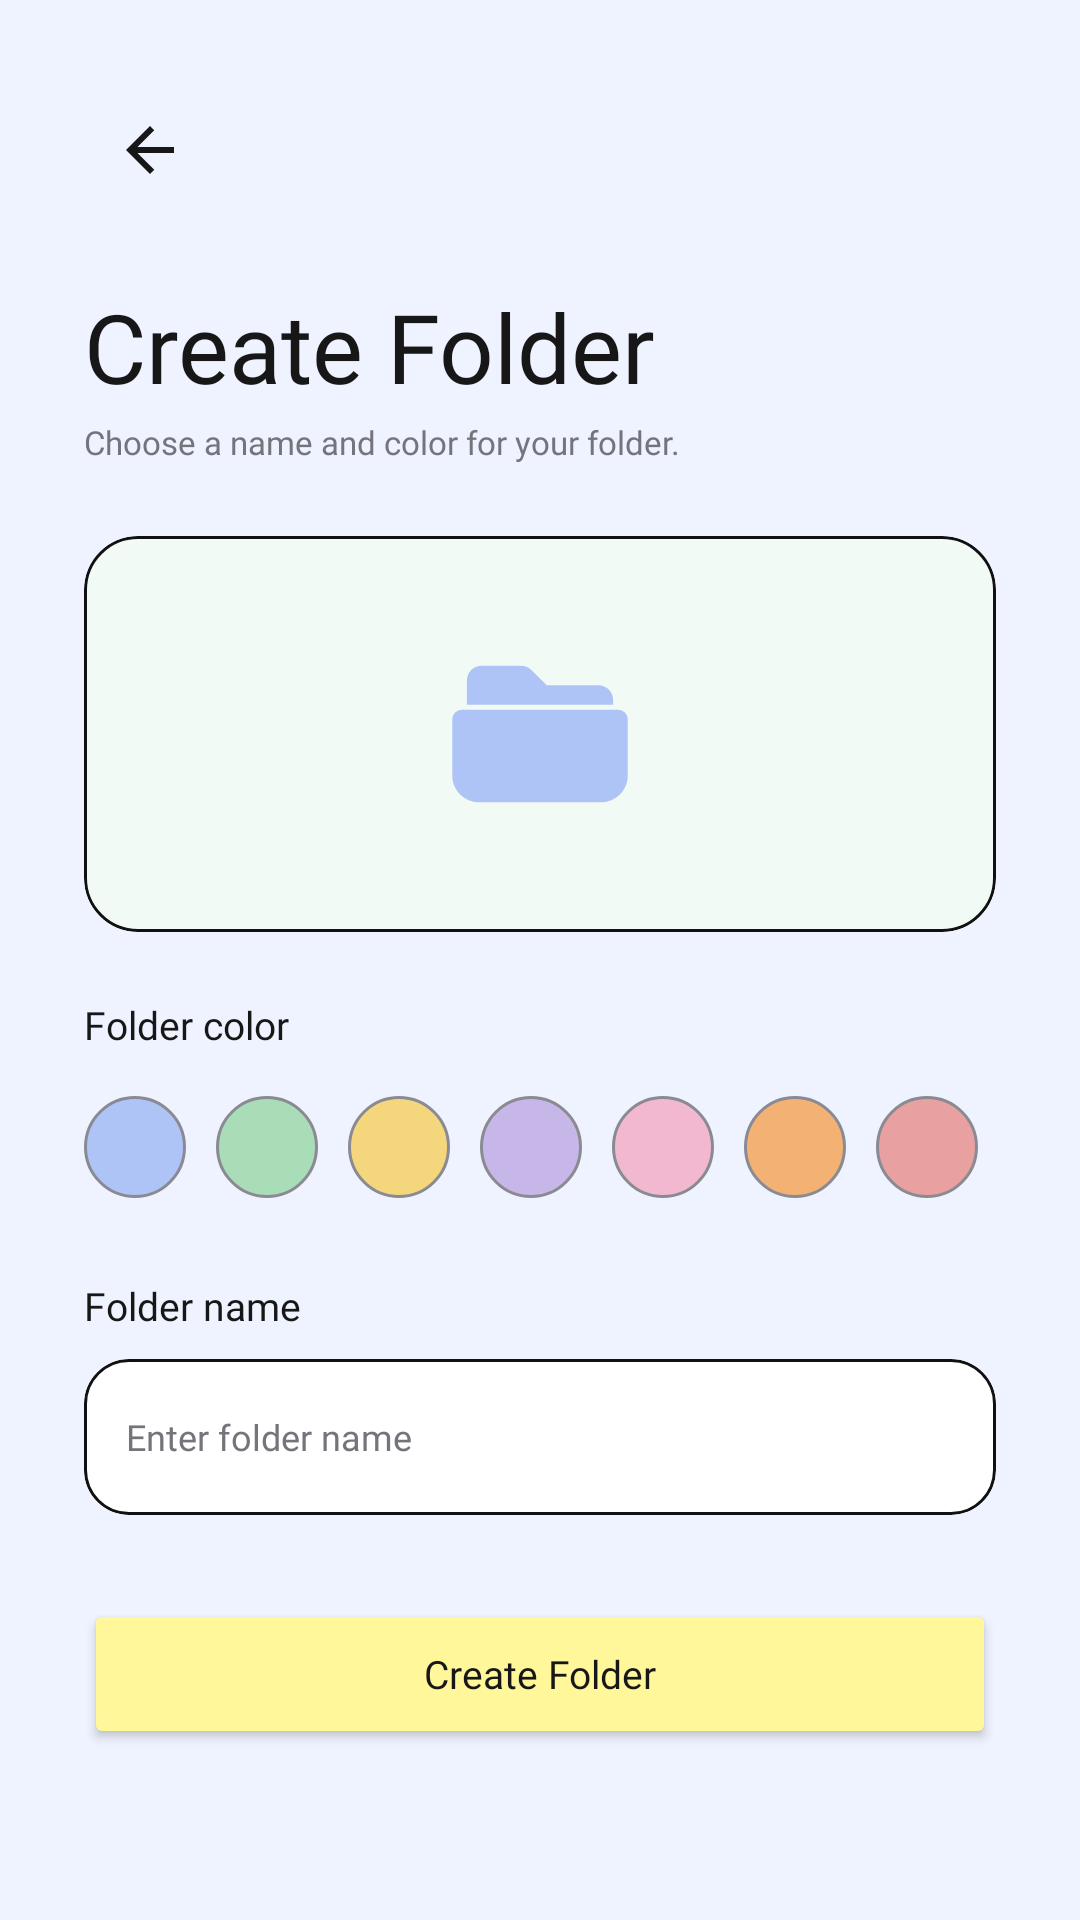

Point at icon controls on the screen. Image size 1080w x 1920h, points as point (x, y).
Back: point (150, 150)
